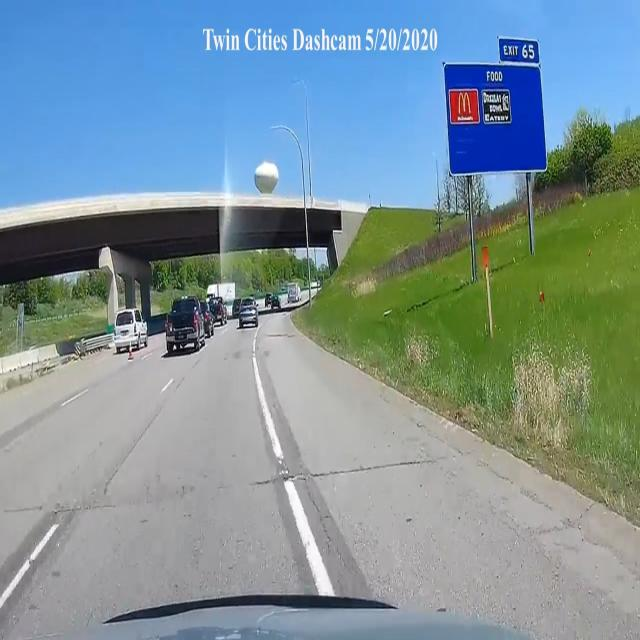cone: (127, 342, 133, 359)
